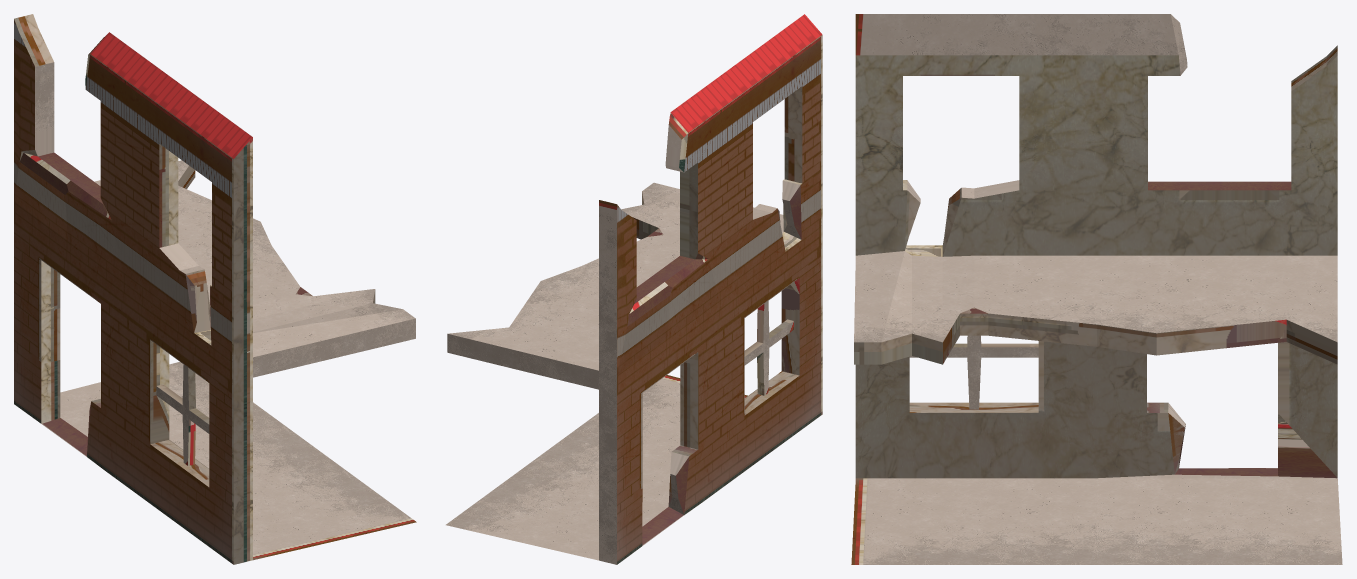
Rendered from Wall3R.fbx.
3 views of the same model, side by side, from view 1: azimuth 30°, elevation 25°; view 2: azimuth 150°, elevation 25°; view 3: azimuth 270°, elevation 25° (orthographic). The views are drawn at different scales.
Parts seen in each view (by area): view 1: Cube.011; view 2: Cube.011; view 3: Cube.011.
Boxes of the visible parts, x1,y1,x2,y2 form: Cube.011: (14, 14, 416, 564); Cube.011: (446, 14, 822, 564); Cube.011: (851, 14, 1342, 564).
Bounding box in the file's own units: 190 × 417 × 400.
